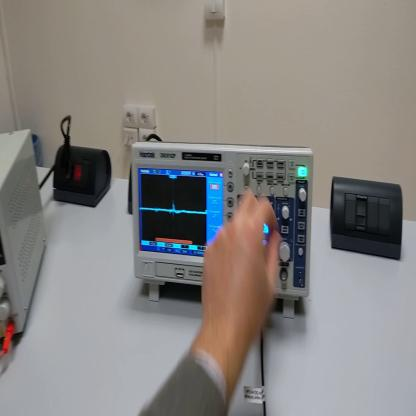hand: (199, 189, 282, 348)
oscilloscope: (126, 139, 314, 323)
power supply: (2, 130, 49, 342)
socket: (51, 146, 114, 210), (128, 164, 135, 216)
